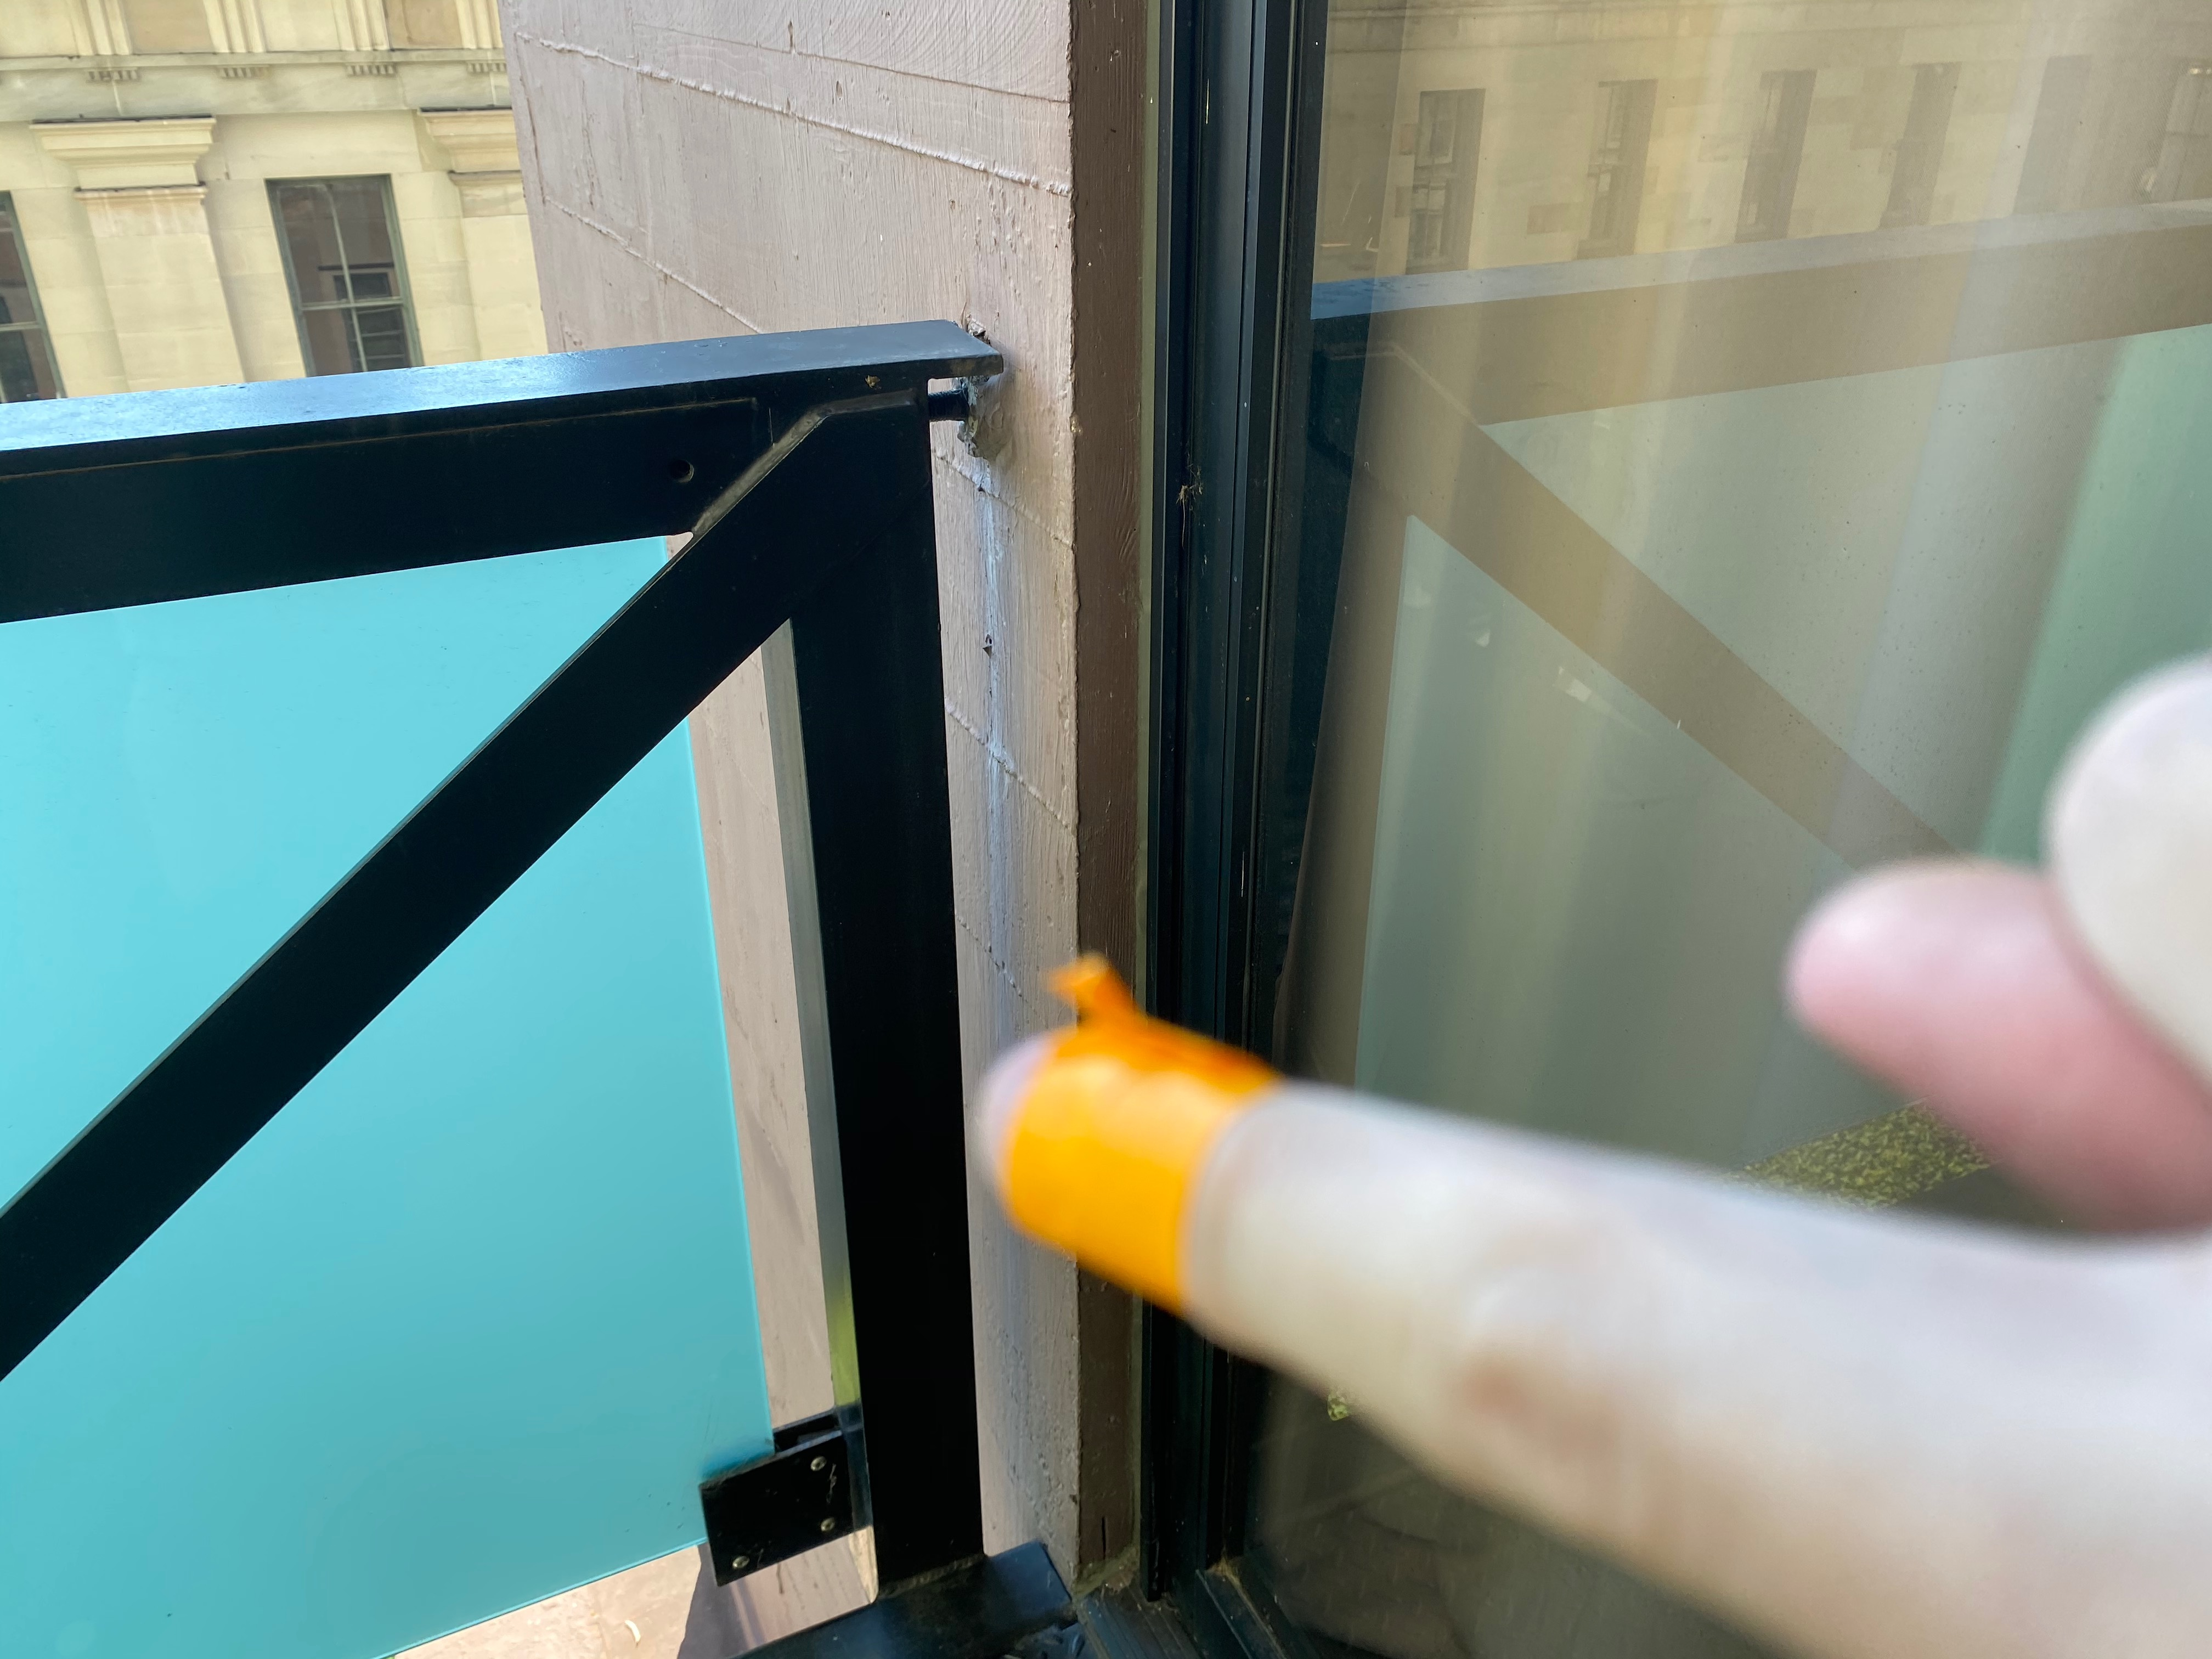fingertip: (902, 990, 1327, 1352)
